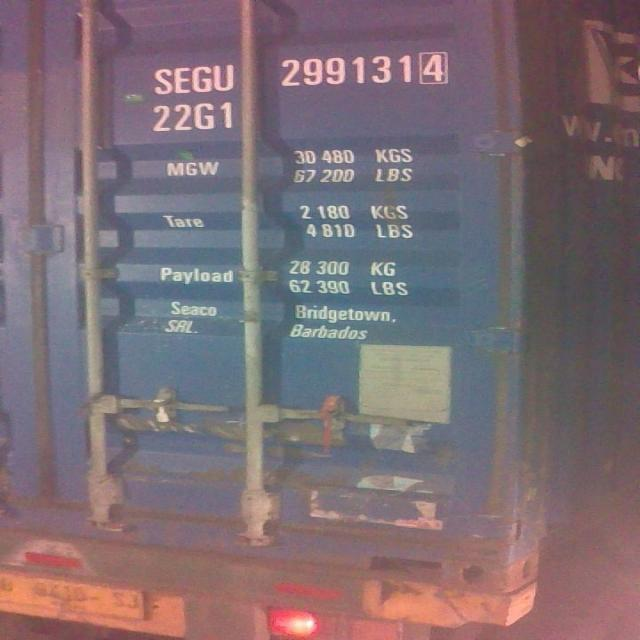seal: (315, 395, 346, 452), (149, 395, 176, 426)
